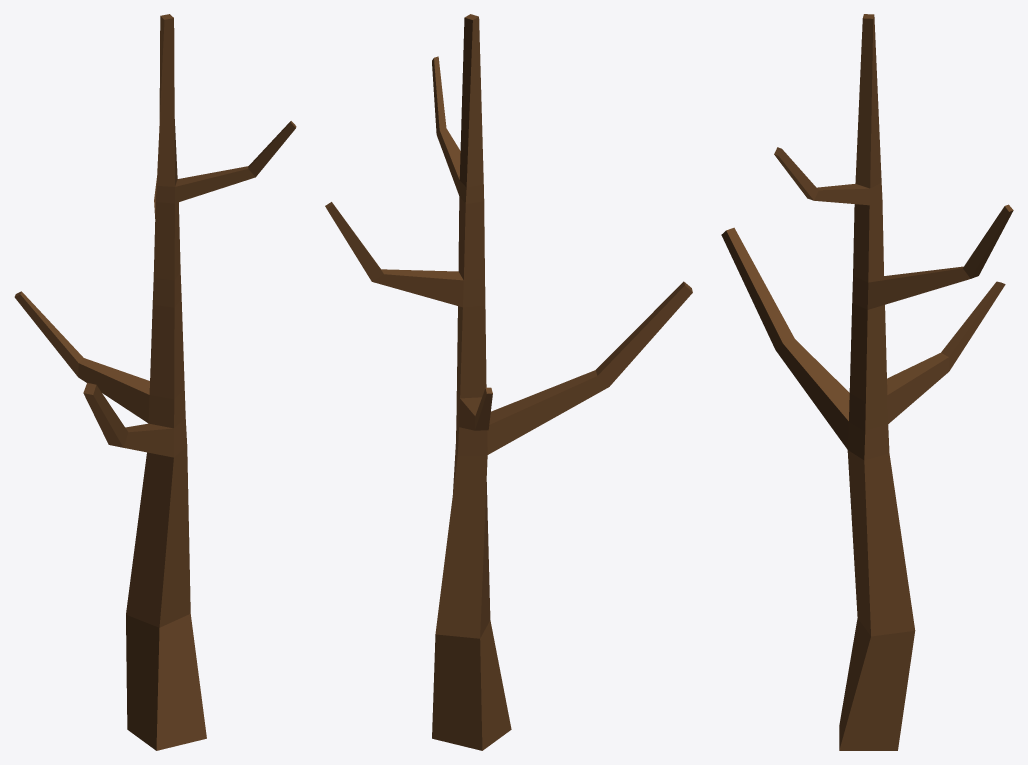
Rendered from forest-dead-oak.glb.
The picture shows the model from 3 angles, left to right: view 1: azimuth 30°, elevation 25°; view 2: azimuth 150°, elevation 25°; view 3: azimuth 270°, elevation 25°; orthographic projection.
Visible parts, largest first — view 1: DeadOak2; view 2: DeadOak2; view 3: DeadOak2.
Part boxes in pixels (x1,y1,x2,y2): DeadOak2: (14, 14, 296, 750); DeadOak2: (325, 14, 692, 750); DeadOak2: (721, 14, 1013, 750).
Size of the model in its own units: 2.3 by 6.65 by 2.44.
